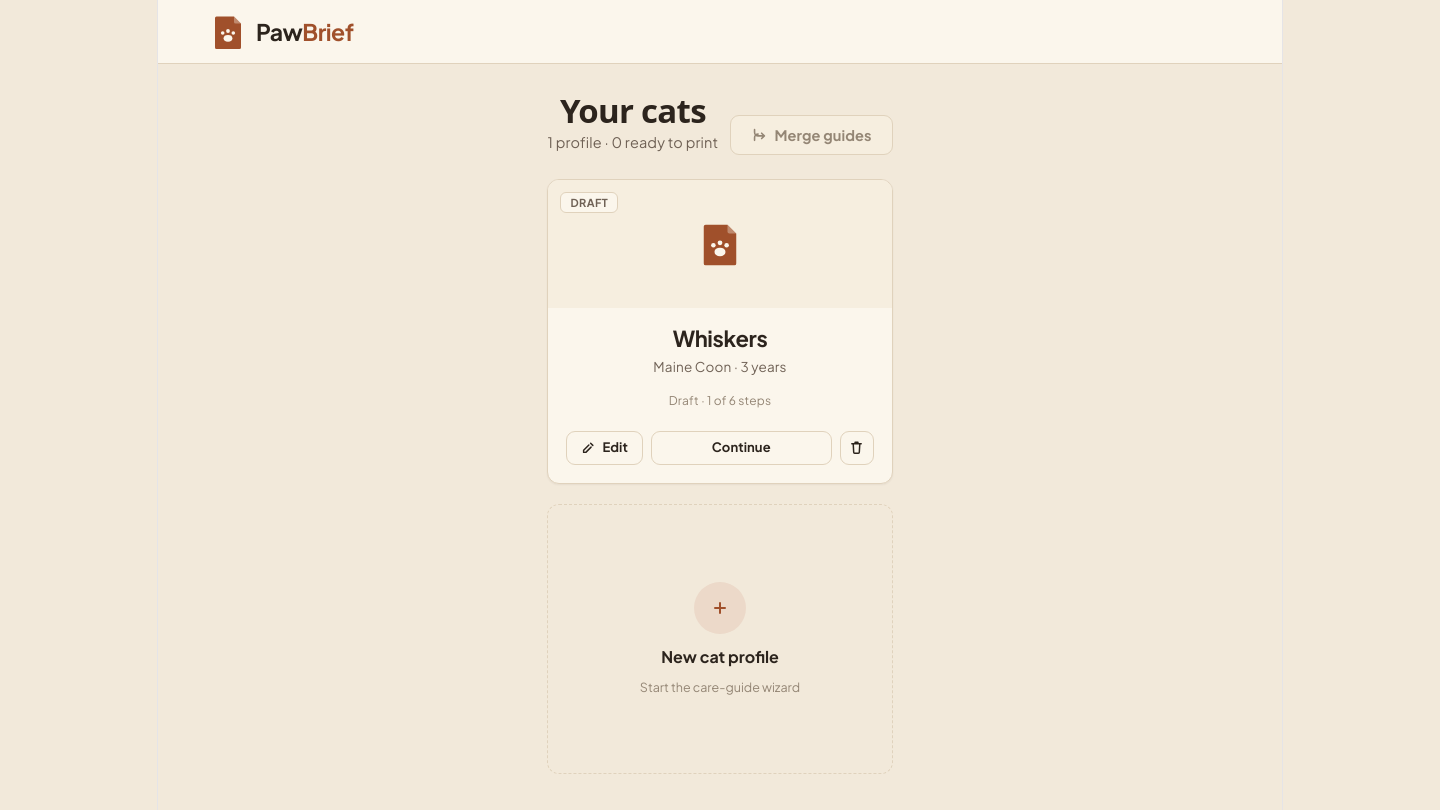
it: DashboardPage Toast notifications › shows a toast with the cat's name after confirming delete
Click the button named "delete": {"x": 856, "y": 448} [840,431,874,465]
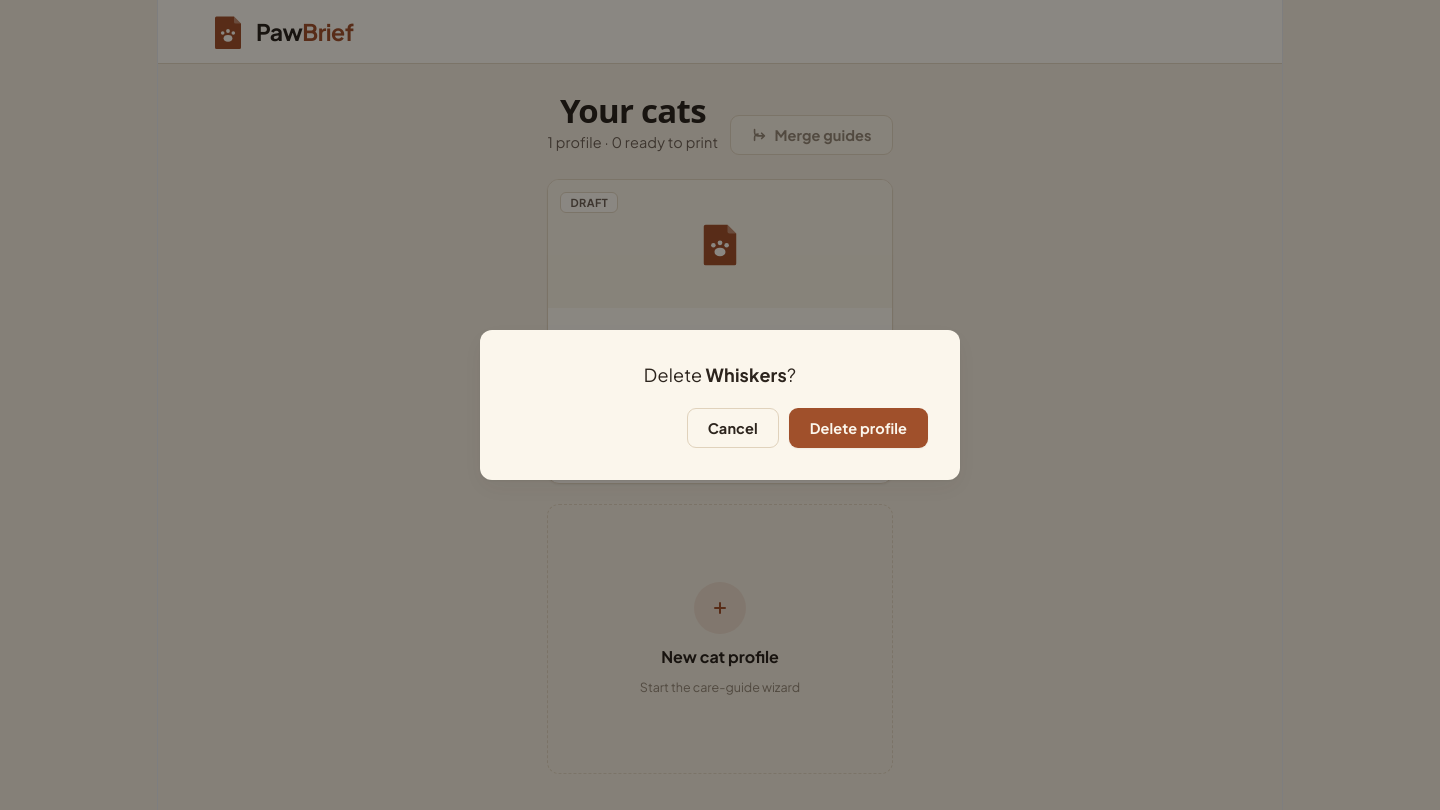
Click the button "Delete profile": {"x": 858, "y": 428} [789,408,928,448]
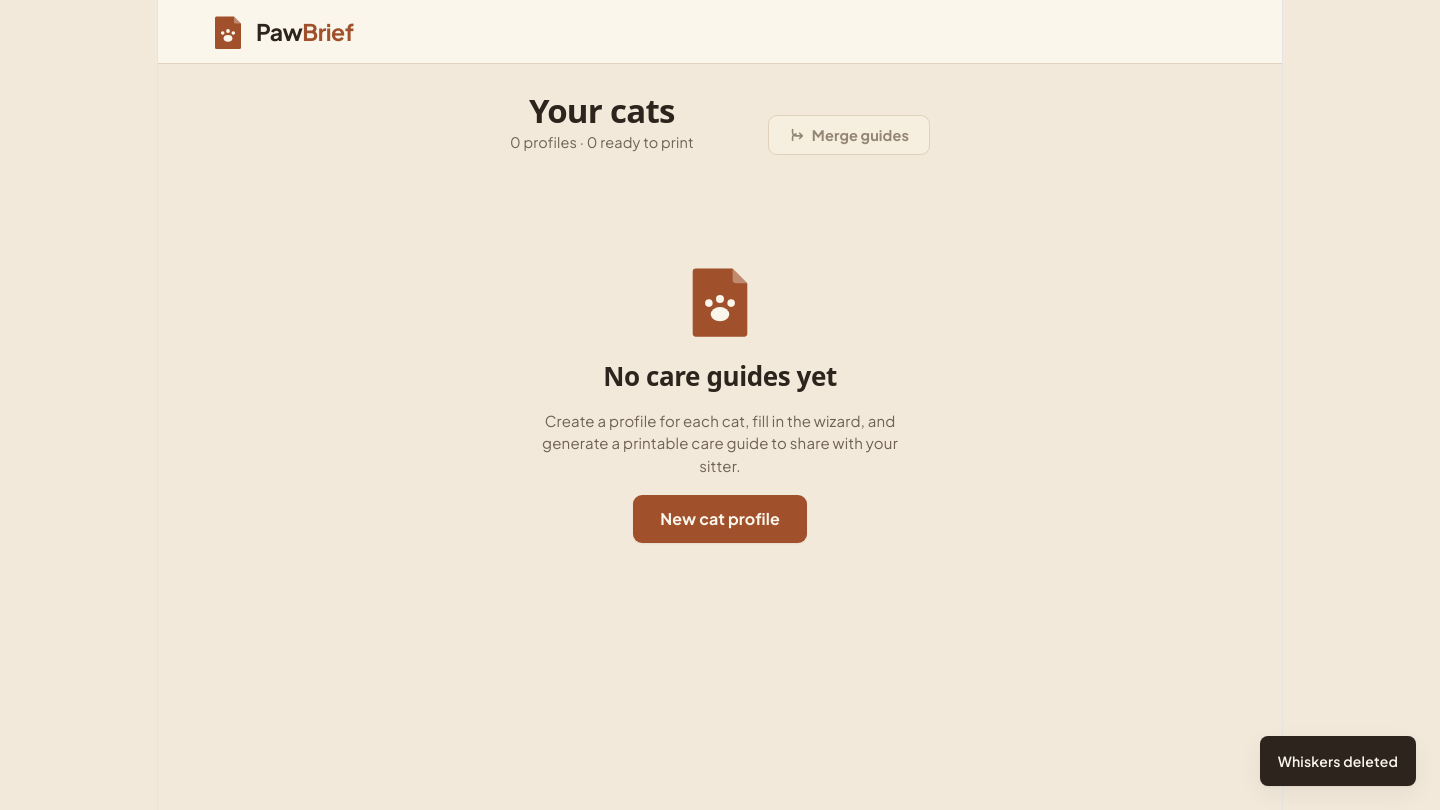
Expected: the text "Whiskers deleted" is shown, [1260,736,1416,786]
